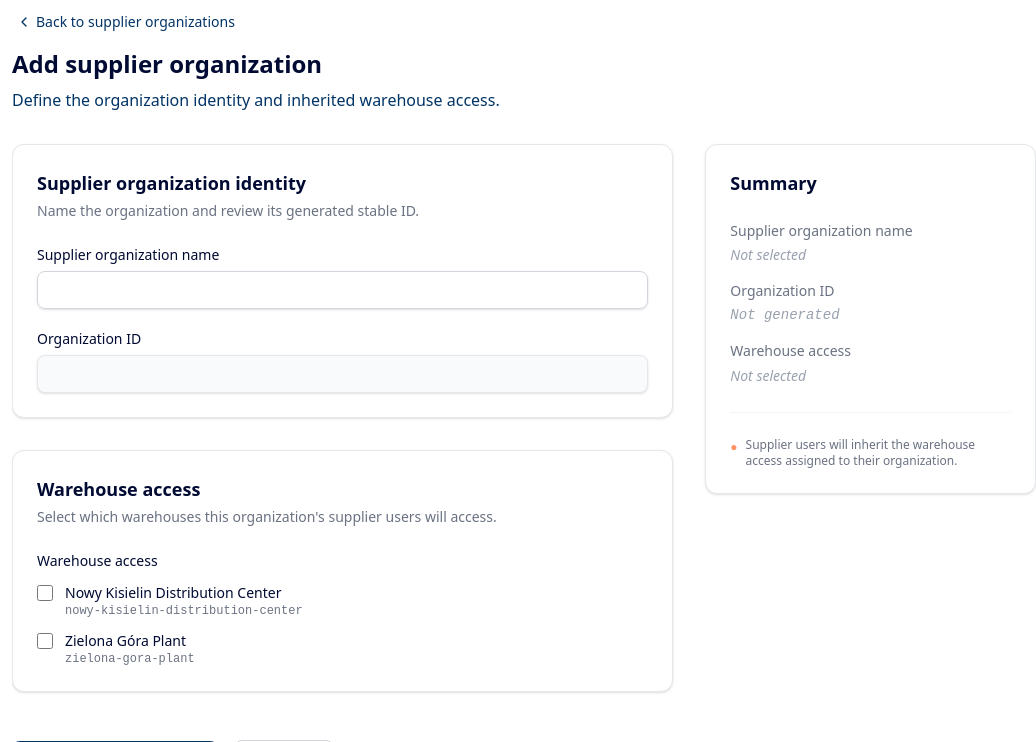
Test case: AddSupplierOrganizationPage › 7. generates a stable ID from Polish characters;
Type "Łódź Packaging & Logistics" into the field labelled "Supplier organization name" at {"x": 343, "y": 290}, box [37, 271, 648, 309]
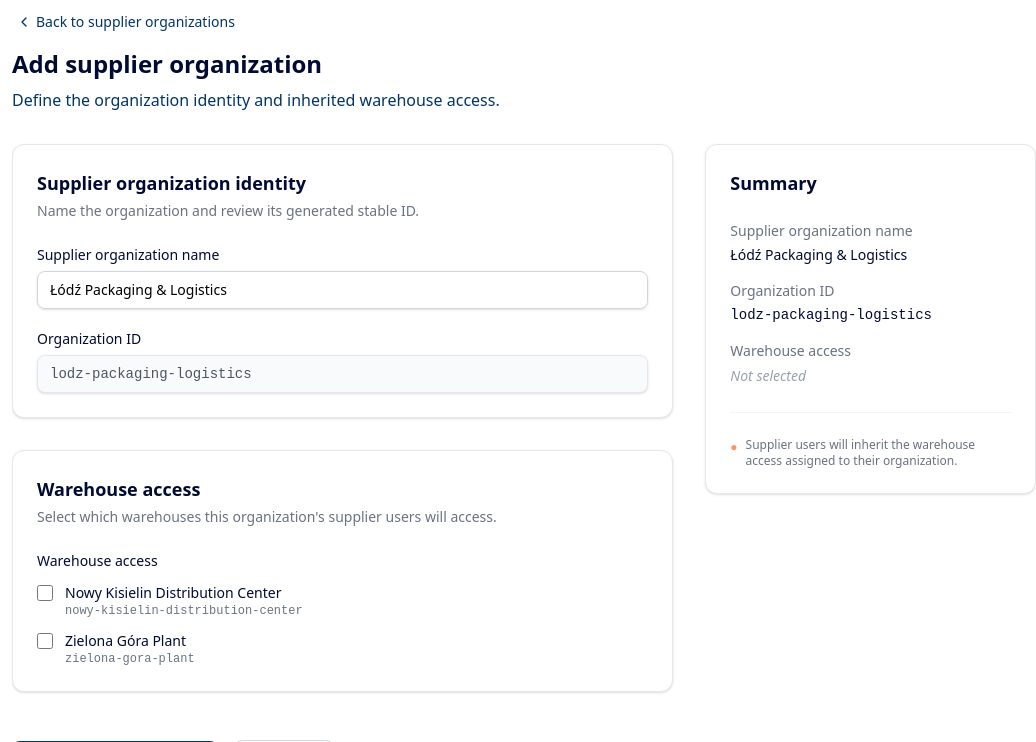
Check: the field labelled "Organization ID" holds "lodz-packaging-logistics", box [37, 355, 648, 393]
